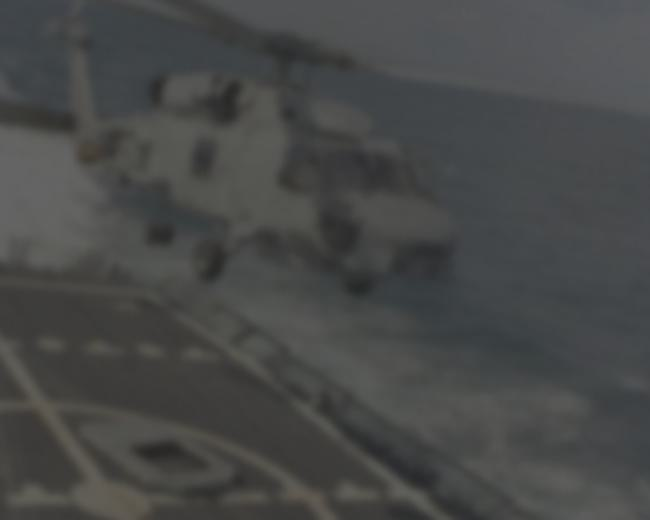Apron: (8, 375, 339, 520)
